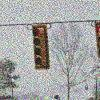traffic lights: (33, 26, 48, 70)
